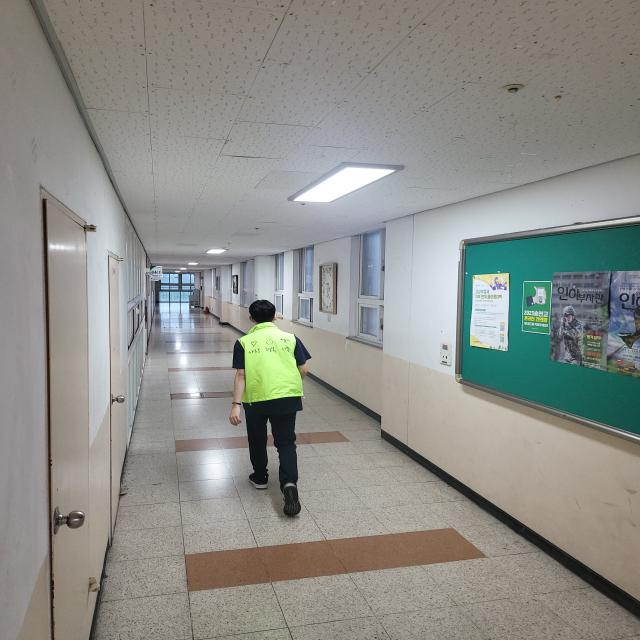weston_spy: (224, 318, 328, 415)
